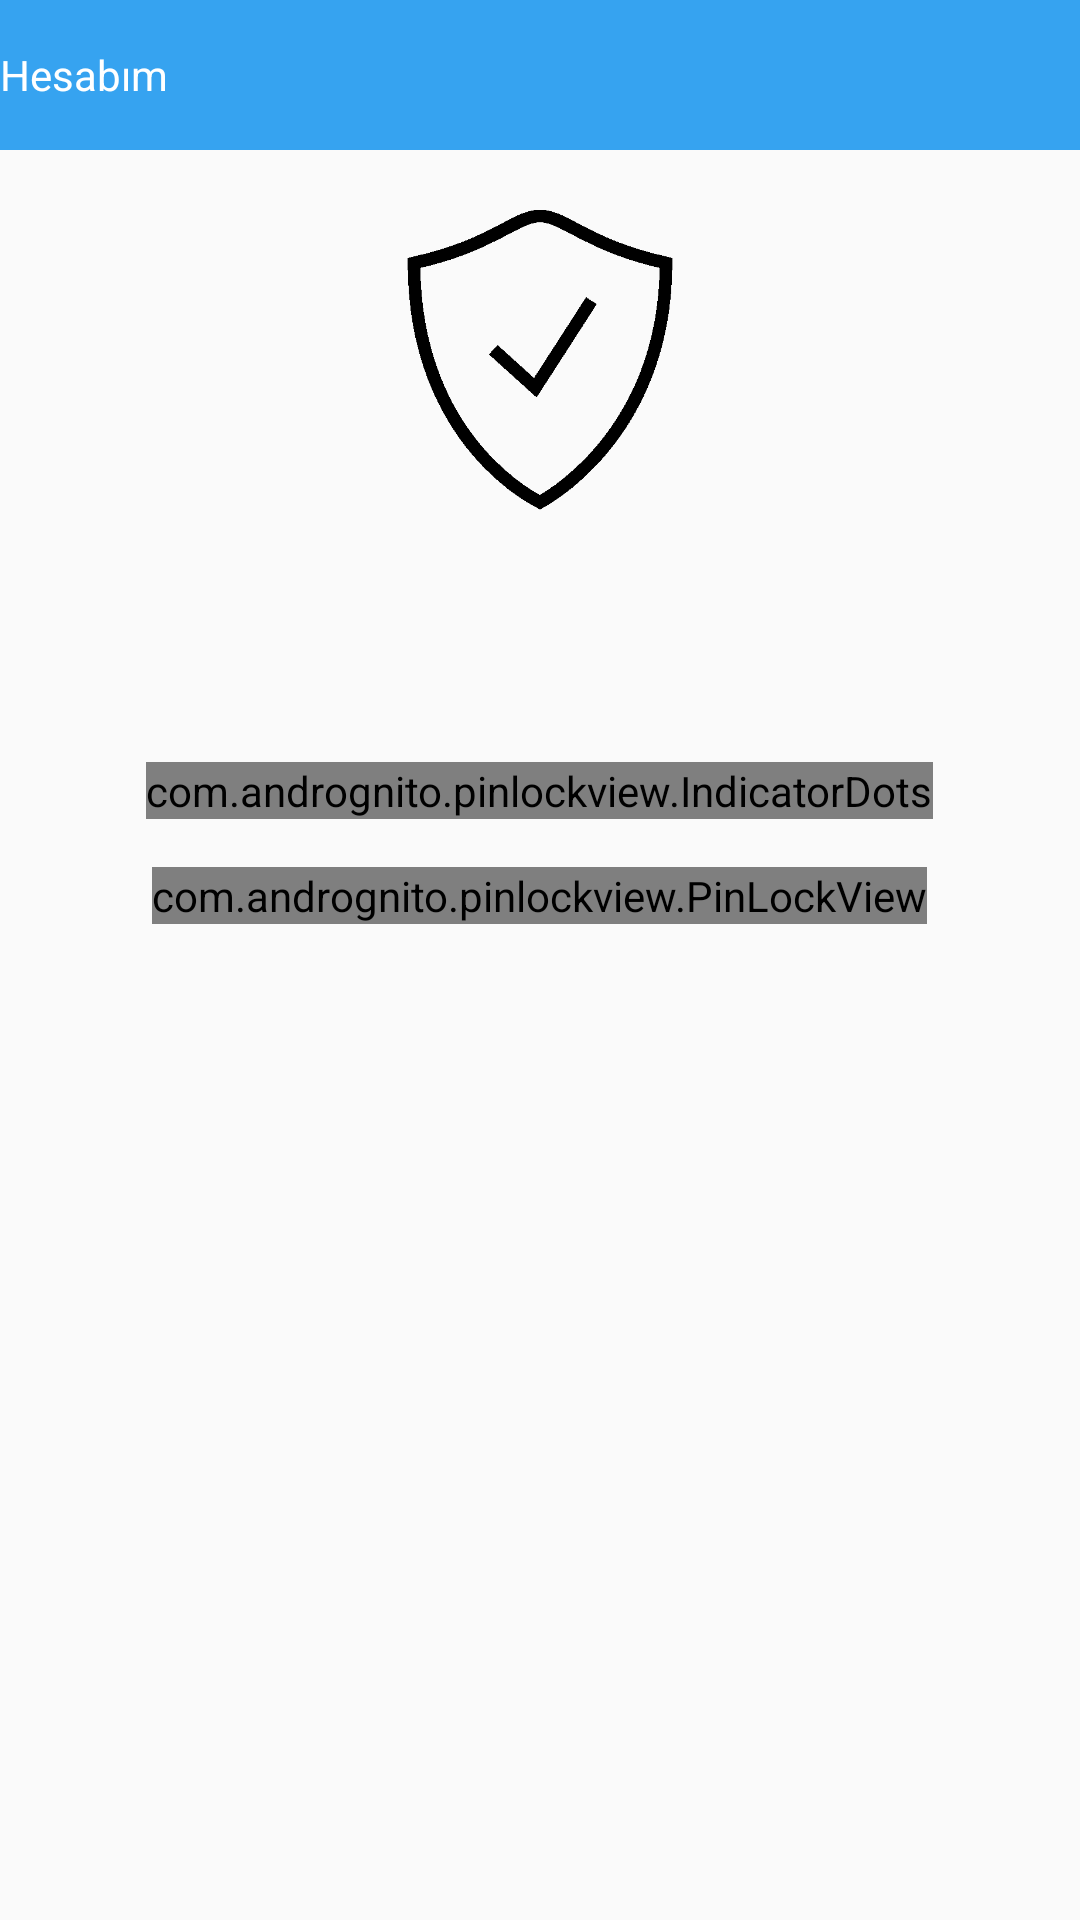

Where icons sit on this 1080×1920 app screen, as (x1, y1, x2, y2):
security: (407, 210, 673, 510)
